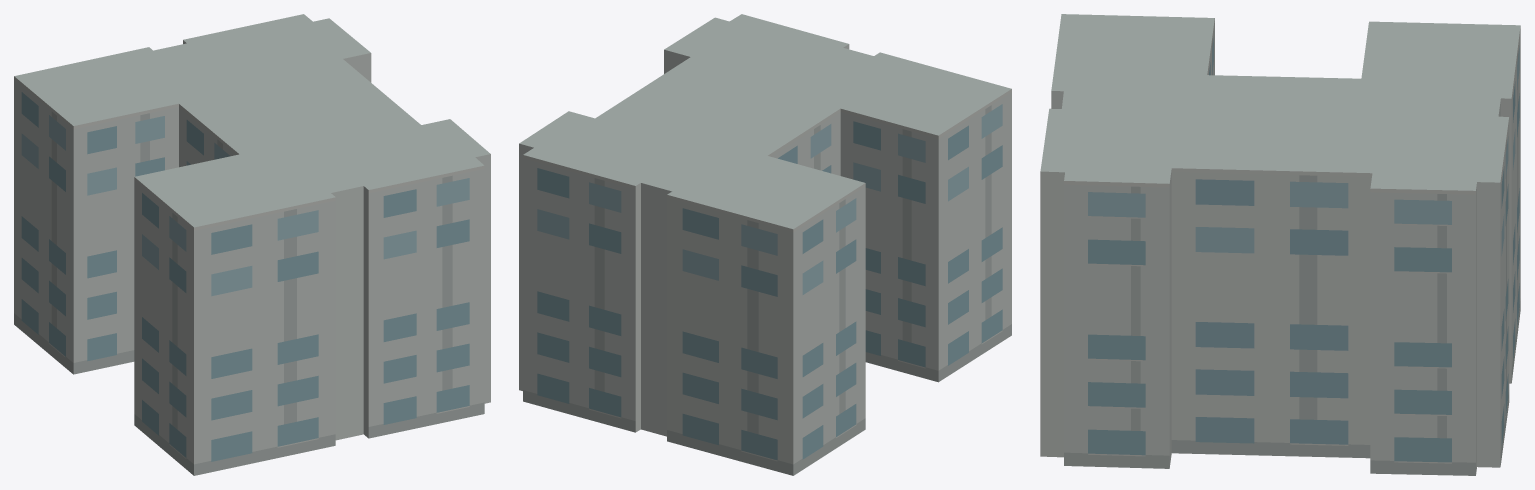
The model's file is survey-upis-32551761.glb.
3 views of the same model, side by side, from view 1: azimuth 30°, elevation 25°; view 2: azimuth 150°, elevation 25°; view 3: azimuth 270°, elevation 25° (orthographic). The views are drawn at different scales.
Visible parts, largest first — view 1: survey-upis-32551761.tmp; view 2: survey-upis-32551761.tmp; view 3: survey-upis-32551761.tmp.
Boxes of the visible parts, <box> form: survey-upis-32551761.tmp: <box>14,14,490,475</box>; survey-upis-32551761.tmp: <box>519,14,1011,475</box>; survey-upis-32551761.tmp: <box>1040,14,1520,475</box>.
Bounding box in the file's own units: 24.09 × 18.1 × 27.64.
